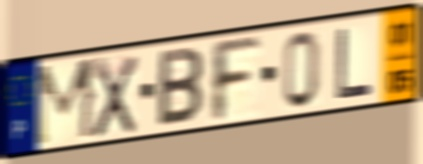0: (280, 27, 323, 112)
B: (155, 45, 206, 131)
F: (207, 34, 264, 125)
L: (334, 25, 375, 104)
M: (33, 54, 99, 150)
X: (90, 53, 140, 142)
